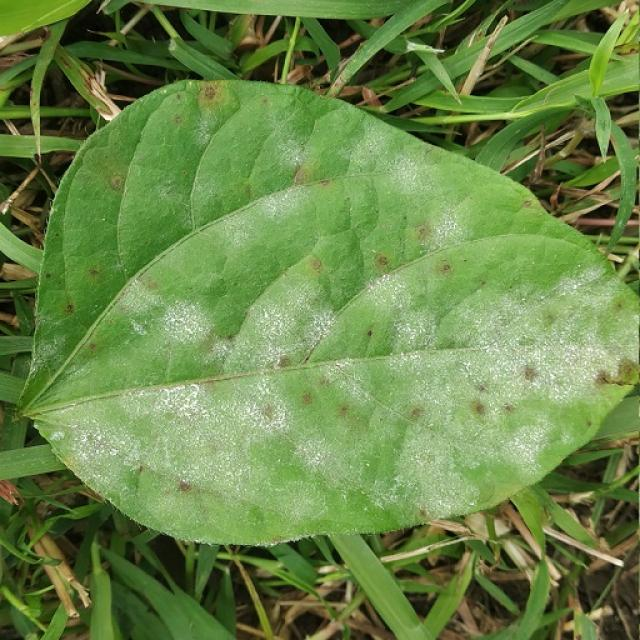Blackgram: (0, 80, 639, 639)
Powdery_Mildew: (54, 283, 620, 519), (88, 371, 344, 501), (120, 246, 355, 384), (431, 274, 620, 432), (269, 375, 408, 500), (386, 395, 495, 501), (365, 145, 462, 232), (135, 378, 245, 447), (240, 276, 328, 361), (65, 401, 150, 476), (234, 180, 321, 237), (141, 297, 218, 357), (162, 296, 229, 361), (384, 280, 447, 349), (495, 411, 559, 469), (258, 117, 314, 182), (538, 267, 609, 317), (415, 195, 474, 253), (403, 471, 474, 519), (50, 430, 64, 441), (365, 461, 371, 467)
